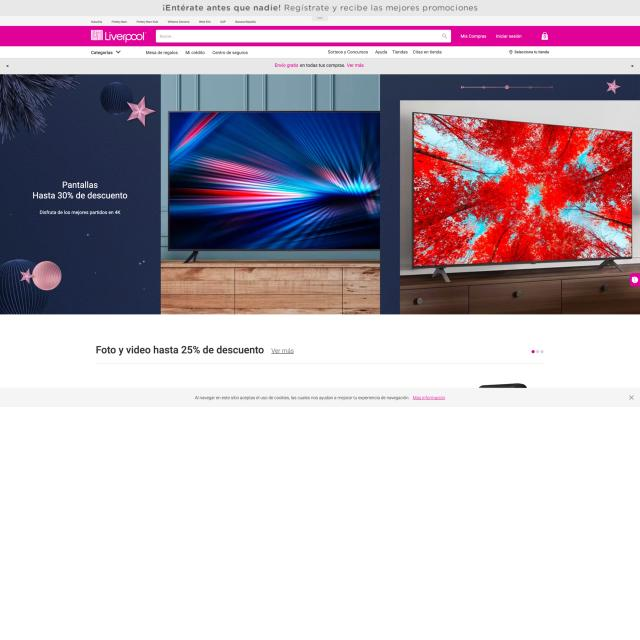input: (156, 29, 451, 42)
logo: (90, 28, 147, 44)
navigation: (326, 48, 443, 56), (88, 19, 261, 24), (144, 48, 250, 56)
